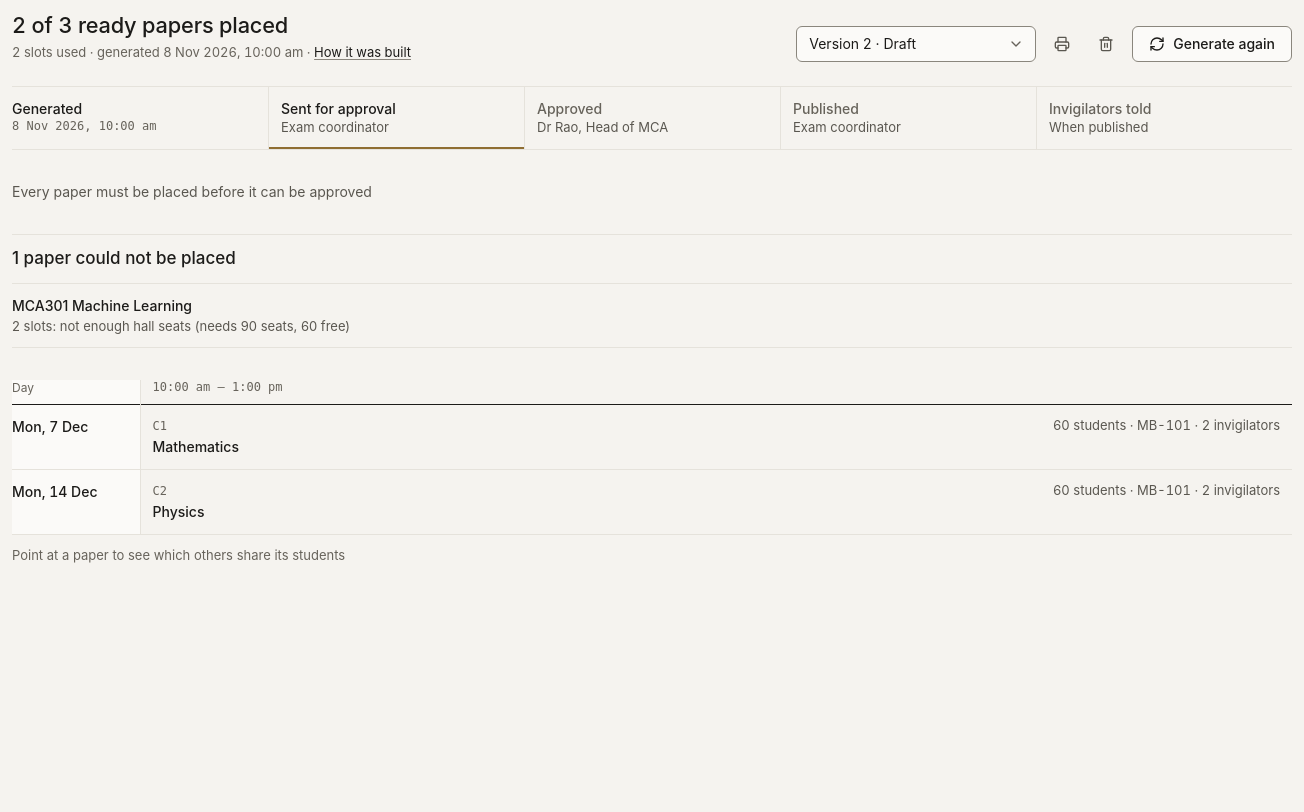
Test: Timetable › reveals papers that share students, in words as well as colour
Hover over the button "C1 Mathematics 60 students · MB-101 · 2 invigilators" at (196, 447), box [140, 405, 1292, 469]
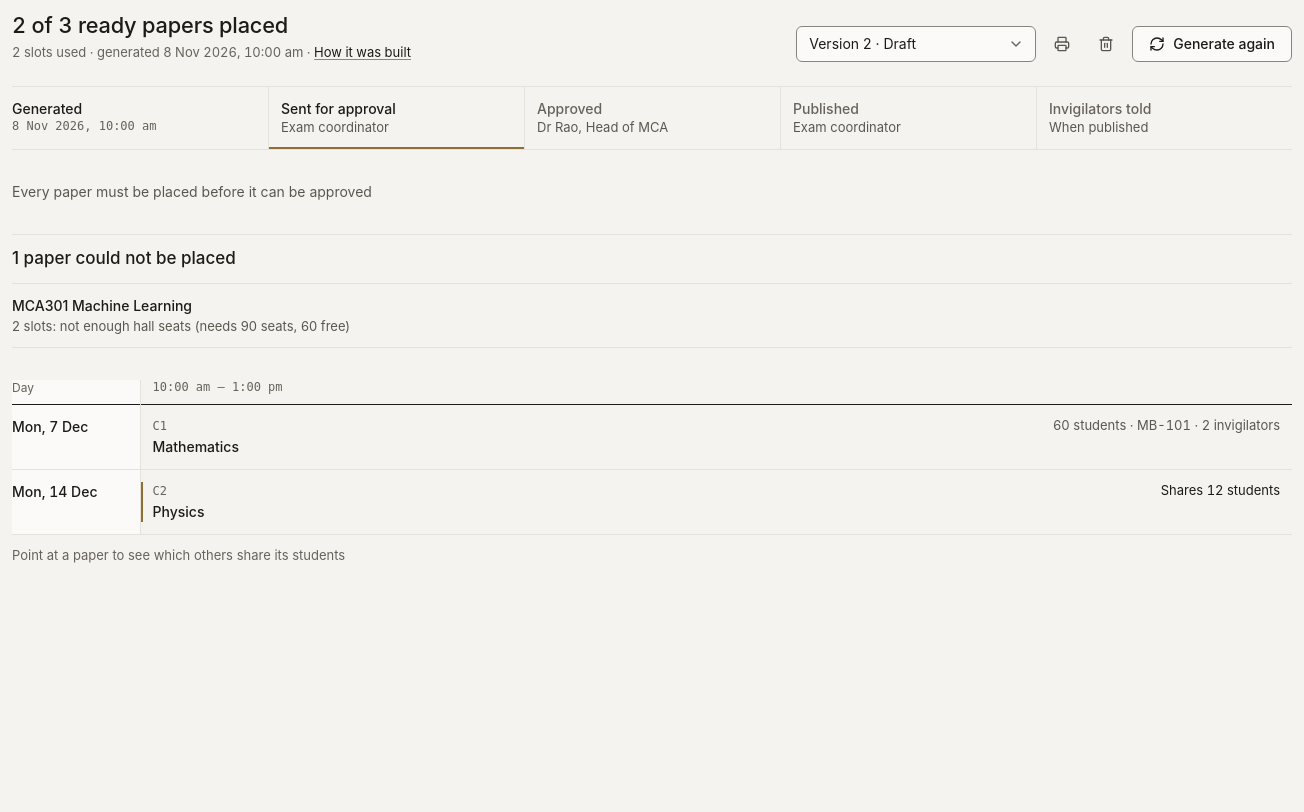
Expected: the button "C2 Physics Shares 12 students" is shown, [140, 470, 1292, 534]
